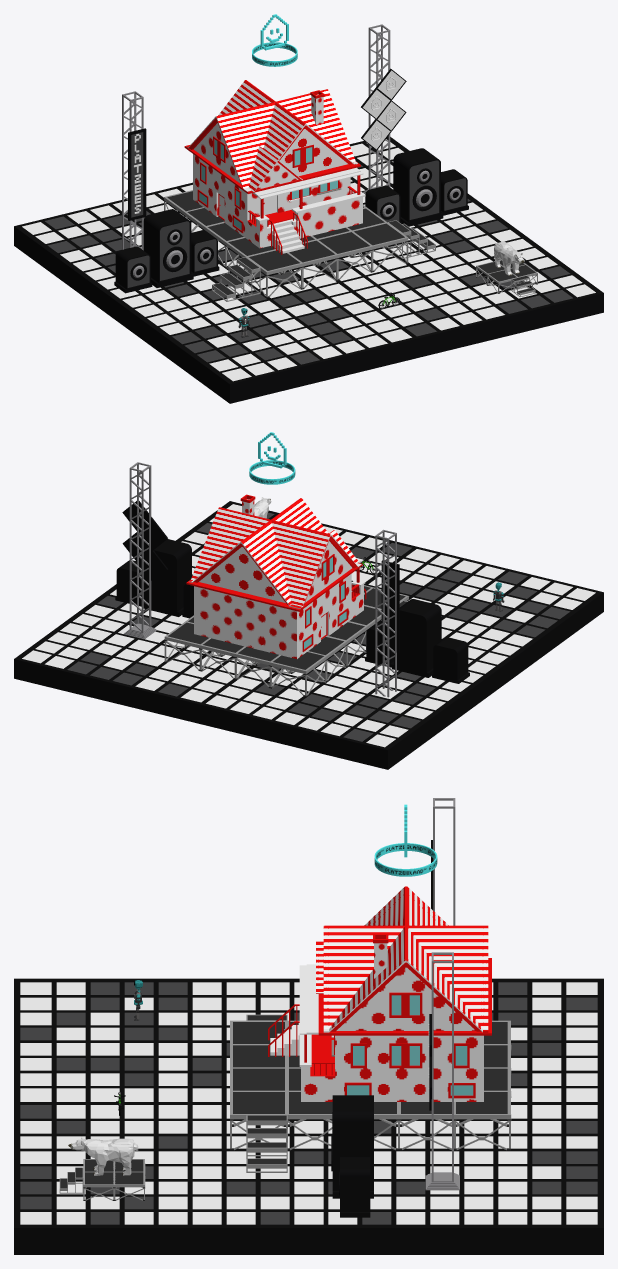
The picture shows the model from 3 angles, top to bottom: view 1: azimuth 30°, elevation 25°; view 2: azimuth 150°, elevation 25°; view 3: azimuth 270°, elevation 25°; orthographic projection. The views are drawn at different scales.
Parts seen in each view (by area): view 1: Cube.008, Cube.196, TYPE_PREMIUM, ANIMAL_OSO_POLAR; view 2: Cube.008, Cube.196, TYPE_PREMIUM; view 3: Cube.008, Cube.196, ANIMAL_OSO_POLAR, TYPE_PREMIUM.
Boxes of the visible parts, box(x1,y1,x2,y2) form: Cube.008: box(14, 24, 603, 403); Cube.196: box(184, 80, 365, 254); TYPE_PREMIUM: box(252, 14, 297, 66); ANIMAL_OSO_POLAR: box(494, 241, 524, 275); Cube.008: box(14, 462, 603, 769); Cube.196: box(186, 494, 366, 658); TYPE_PREMIUM: box(249, 432, 295, 484); Cube.008: box(14, 798, 603, 1254); Cube.196: box(268, 886, 491, 1101); ANIMAL_OSO_POLAR: box(68, 1136, 138, 1175); TYPE_PREMIUM: box(374, 804, 437, 876).
Bounding box in the file's own units: 4000 × 2511 × 4000.
37 materials, 3 textured.
